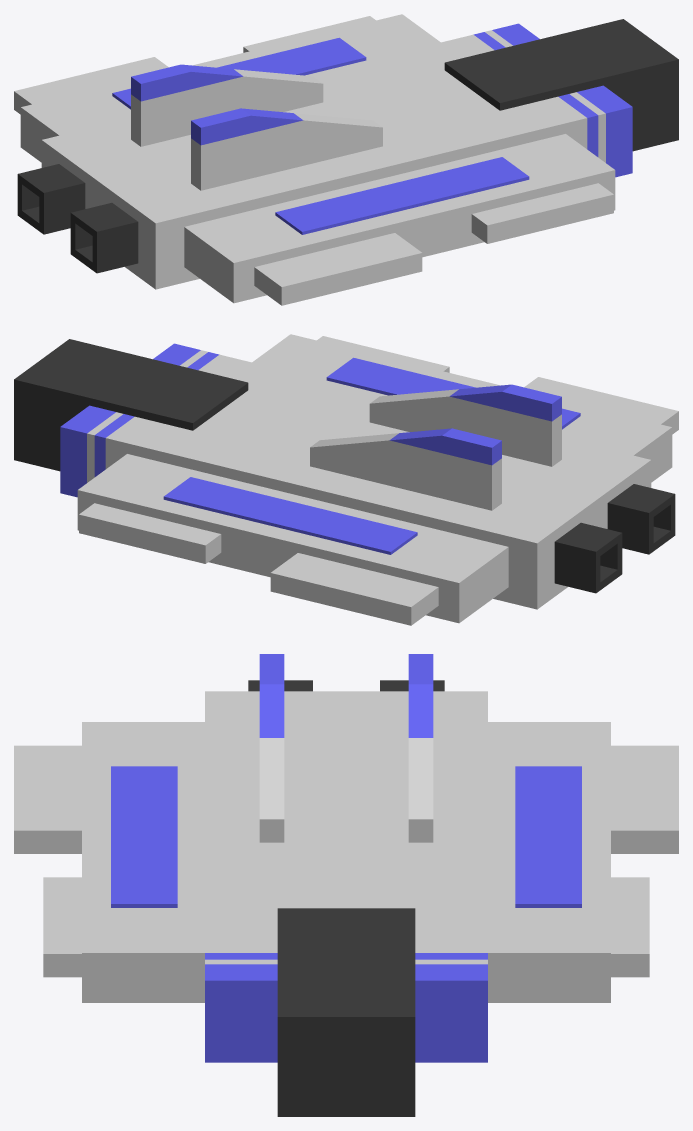
Rendered from Sarapin Gunship.fbx.
The picture shows the model from 3 angles, top to bottom: view 1: azimuth 30°, elevation 25°; view 2: azimuth 150°, elevation 25°; view 3: azimuth 270°, elevation 25°; orthographic projection. The views are drawn at different scales.
Visible parts, largest first — view 1: Group_14_1; view 2: Group_14_1; view 3: Group_14_1.
Part boxes in pixels (box(x1,y1,x2,y2)): Group_14_1: box(14, 14, 678, 305); Group_14_1: box(14, 334, 678, 625); Group_14_1: box(14, 654, 678, 1116).
Size of the model in its own units: 113 by 24.71 by 88.19.
